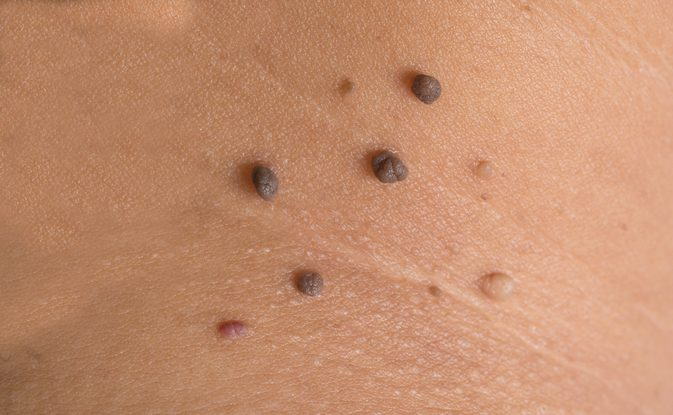mole: (356, 137, 425, 193), (240, 152, 296, 210), (465, 261, 526, 308), (407, 66, 457, 112), (208, 310, 259, 348), (467, 152, 511, 190), (289, 265, 333, 301)
